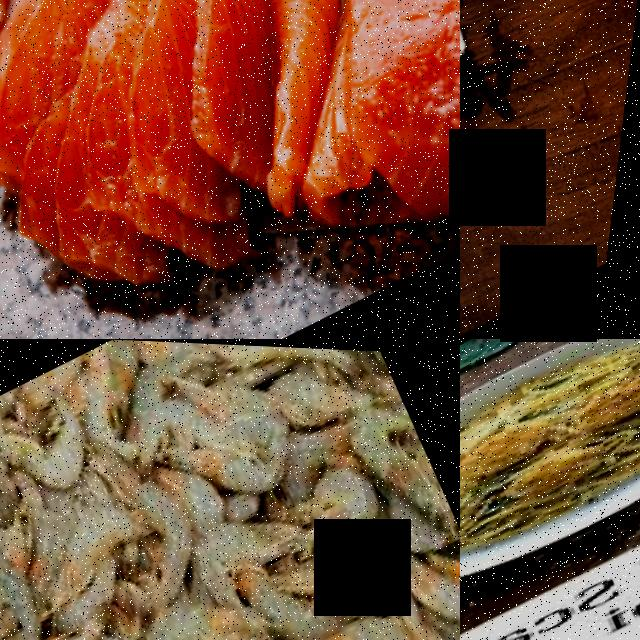salmon: (256, 0, 460, 259), (82, 37, 267, 250), (156, 0, 332, 195), (460, 0, 512, 257), (0, 0, 69, 180), (160, 0, 308, 36)
shrimp: (198, 341, 362, 428), (0, 390, 114, 503), (282, 448, 399, 557), (304, 523, 417, 631), (195, 495, 308, 588), (0, 546, 80, 640), (133, 579, 250, 640), (305, 595, 427, 640)
